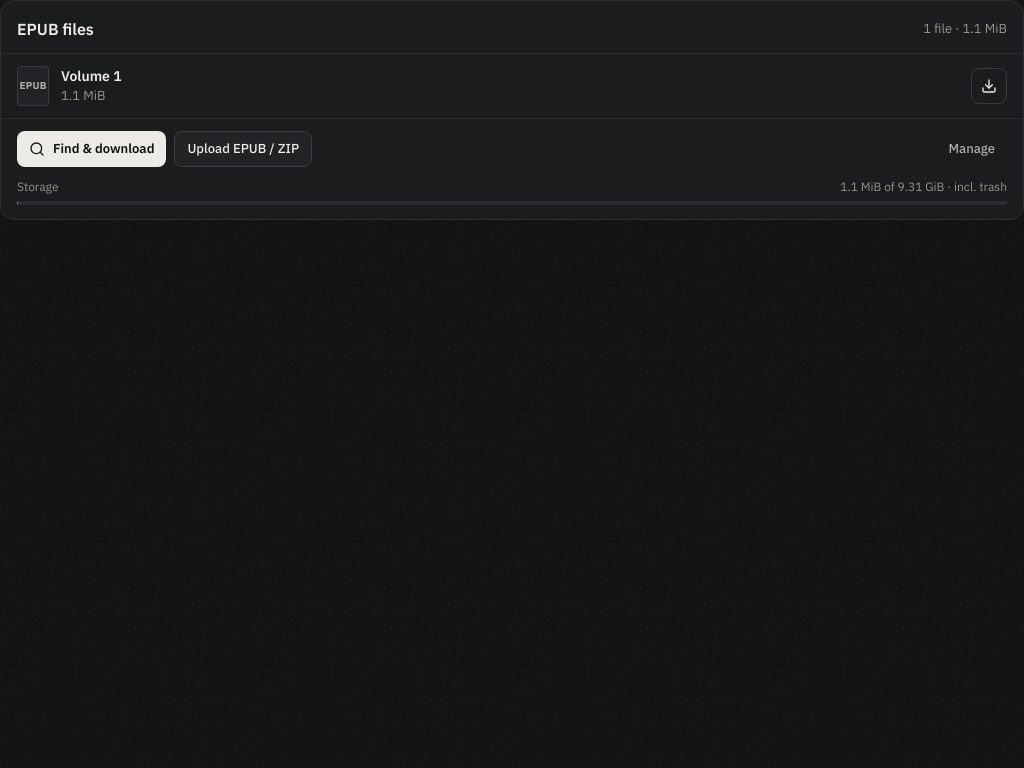
Test: BookFilesPanel EPUB search › opens the EPUB search for the book and continues file numbering
Check: the text "1 file · 1.1 MiB" is shown, box [923,20,1007,38]
Click the button "Find & download": (92, 149) [17,131,166,167]
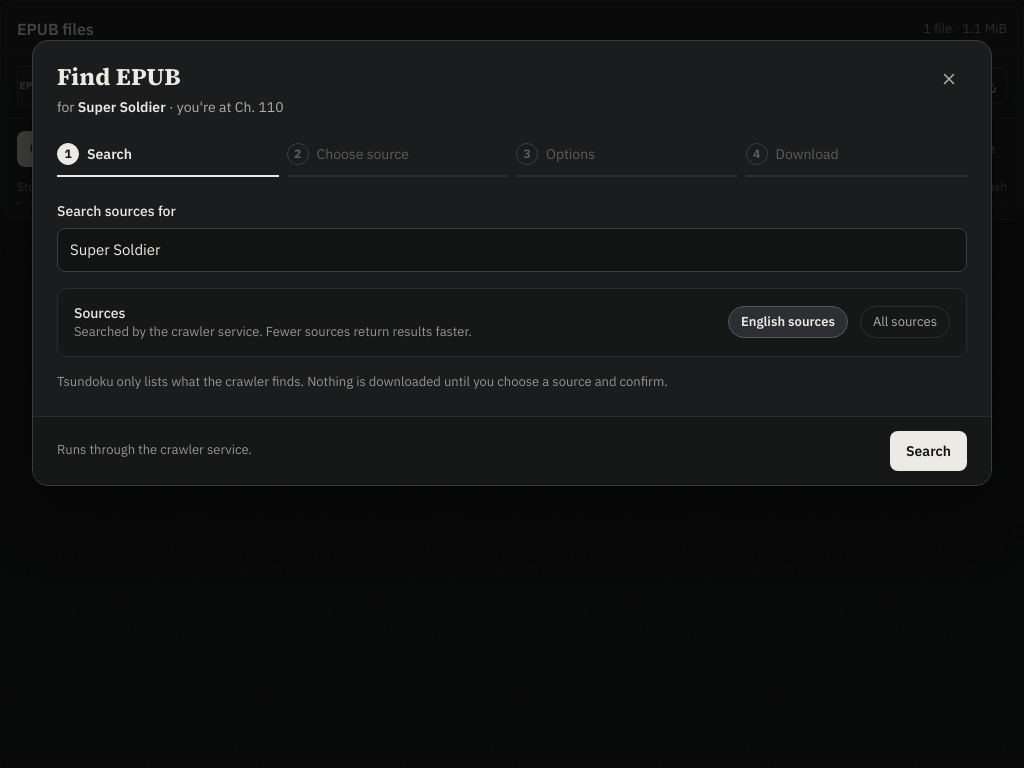
Check: the dialog "Find EPUB" shows "you're at Ch. 110", box [166,98,284,116]
Check: the search field holds "Super Soldier", box [57,228,967,272]
